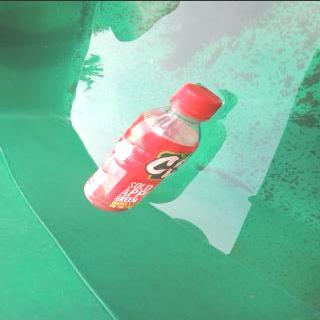bottle: (82, 82, 224, 213)
